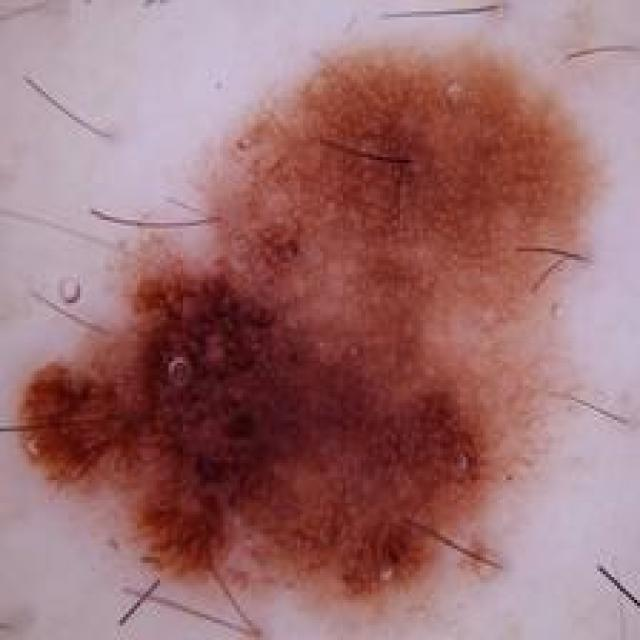Cancer: (14, 48, 612, 599)
